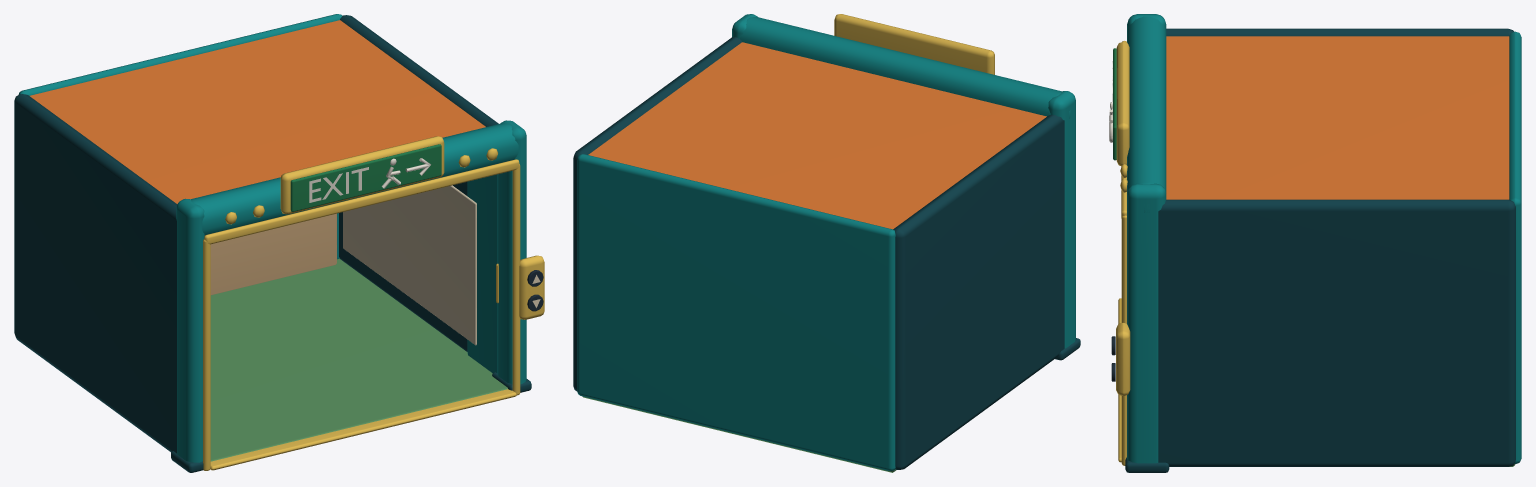
File: elevator.glb
The picture shows the model from 3 angles, left to right: view 1: azimuth 30°, elevation 25°; view 2: azimuth 150°, elevation 25°; view 3: azimuth 270°, elevation 25°; orthographic projection. The views are drawn at different scales.
Parts seen in each view (by area): view 1: Elevator_Geometry; view 2: Elevator_Geometry; view 3: Elevator_Geometry.
Boxes of the visible parts, x1,y1,x2,y2 form: Elevator_Geometry: [14, 14, 544, 472]; Elevator_Geometry: [573, 14, 1080, 472]; Elevator_Geometry: [1109, 14, 1521, 472].
Bounding box in the file's own units: 6.76 × 5.1 × 6.32.
